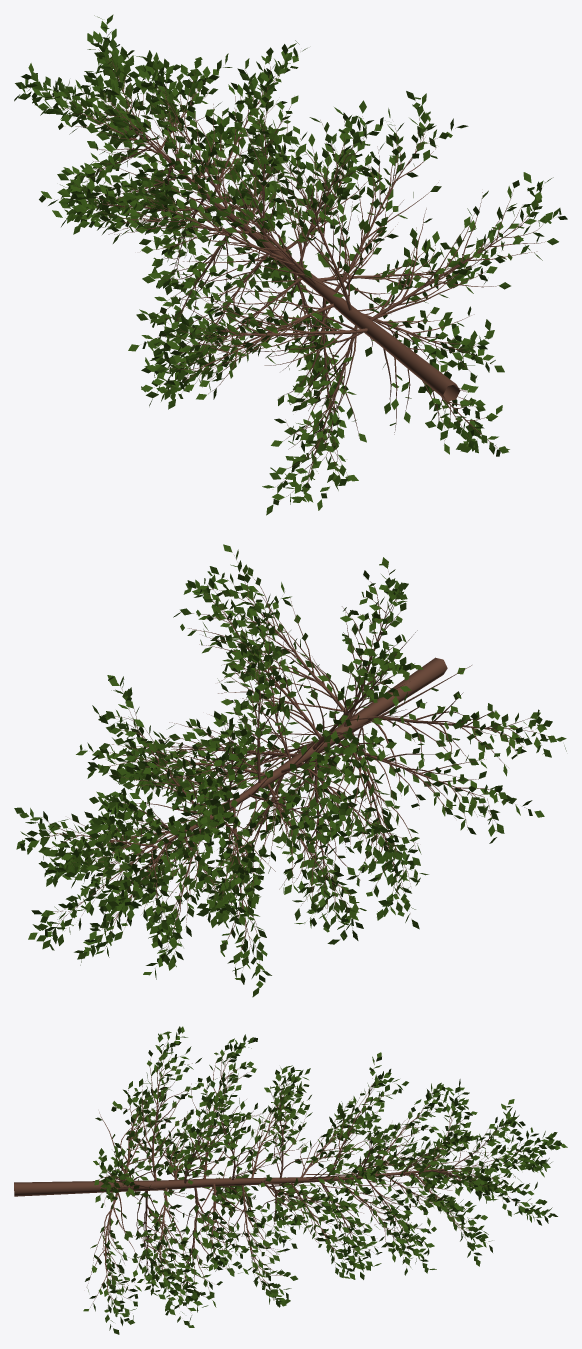
File: Pine.fbx
3 renders of one model, top to bottom at view 1: azimuth 30°, elevation 25°; view 2: azimuth 150°, elevation 25°; view 3: azimuth 270°, elevation 25°, orthographic. The views are drawn at different scales.
Visible parts, largest first — view 1: tree; view 2: tree; view 3: tree.
Part boxes in pixels (x1,y1,x2,y2): tree: (14, 14, 567, 515); tree: (14, 544, 566, 997); tree: (14, 1026, 567, 1334).
Size of the model in its own units: 1747 by 1573 by 2858.
